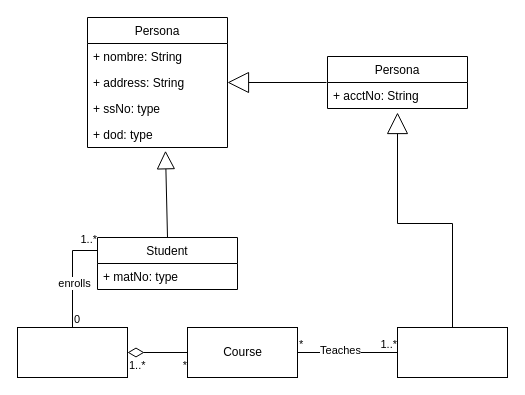
The diagram is 525 pixels wide and 395 high, and some of its shapes have lost their labels. Here are the shapes that lost their labels. From the top down, the centre of each, then its label:
At [72,352]: "Study Program".
At [452,352]: "ResearchAssociiate".
